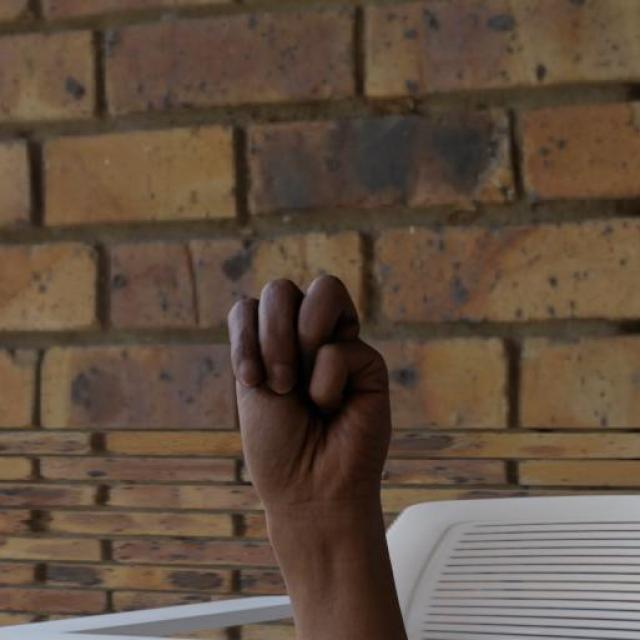M: (224, 271, 395, 511)
